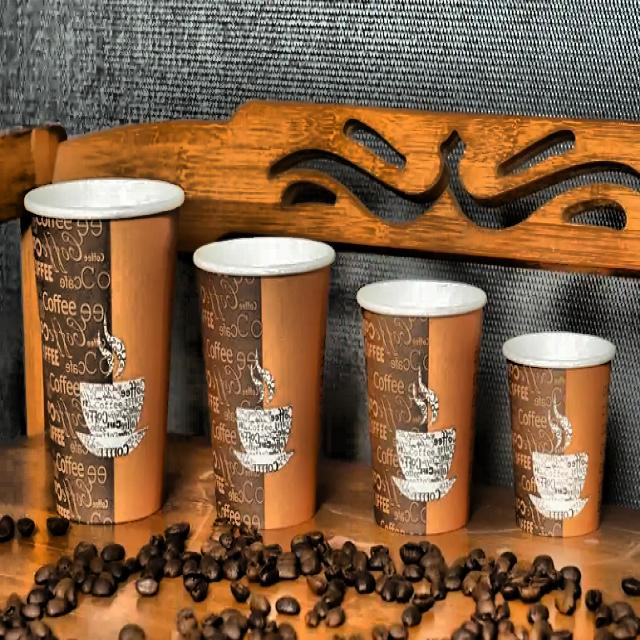Cup: (24, 168, 182, 526), (187, 225, 340, 532), (351, 280, 489, 550), (500, 322, 623, 540)
